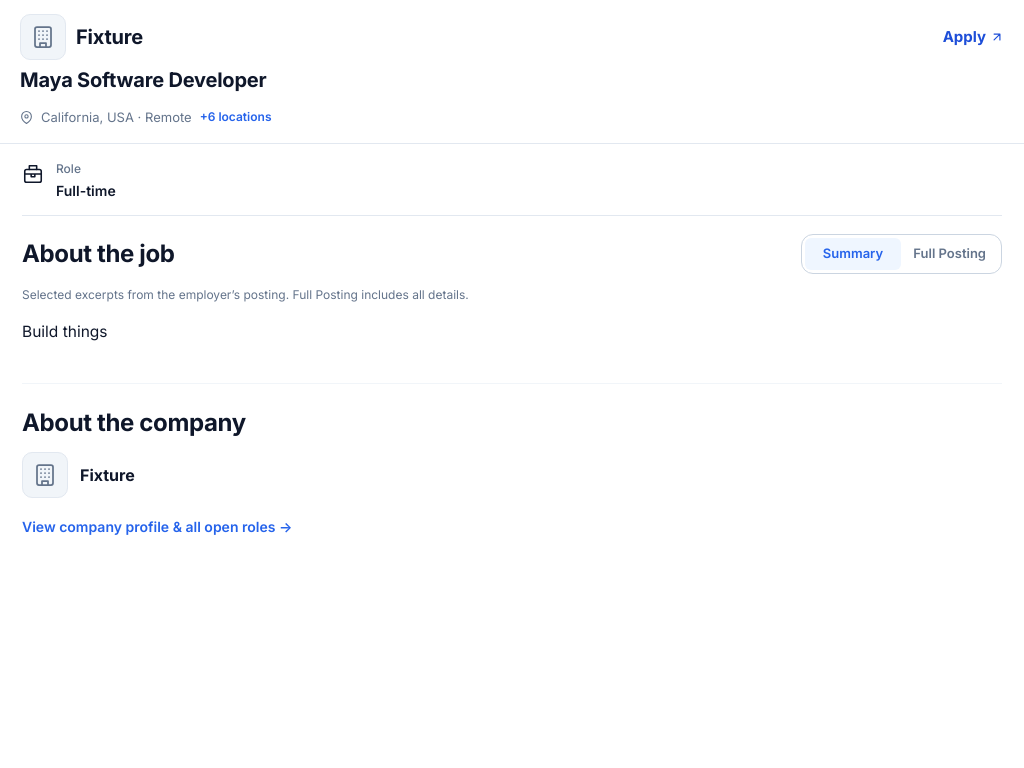
Scenario: location display › collapses seven locations to primary + count, expands to a list, and collapses again
Expected: the link with aria-label "Apply for" is shown, [943,15,1004,59]
Expected: the text "California, USA · Remote" is shown, [41,108,192,126]
Click the button "+6 locations".
click(236, 117)  # box [200,101,271,133]
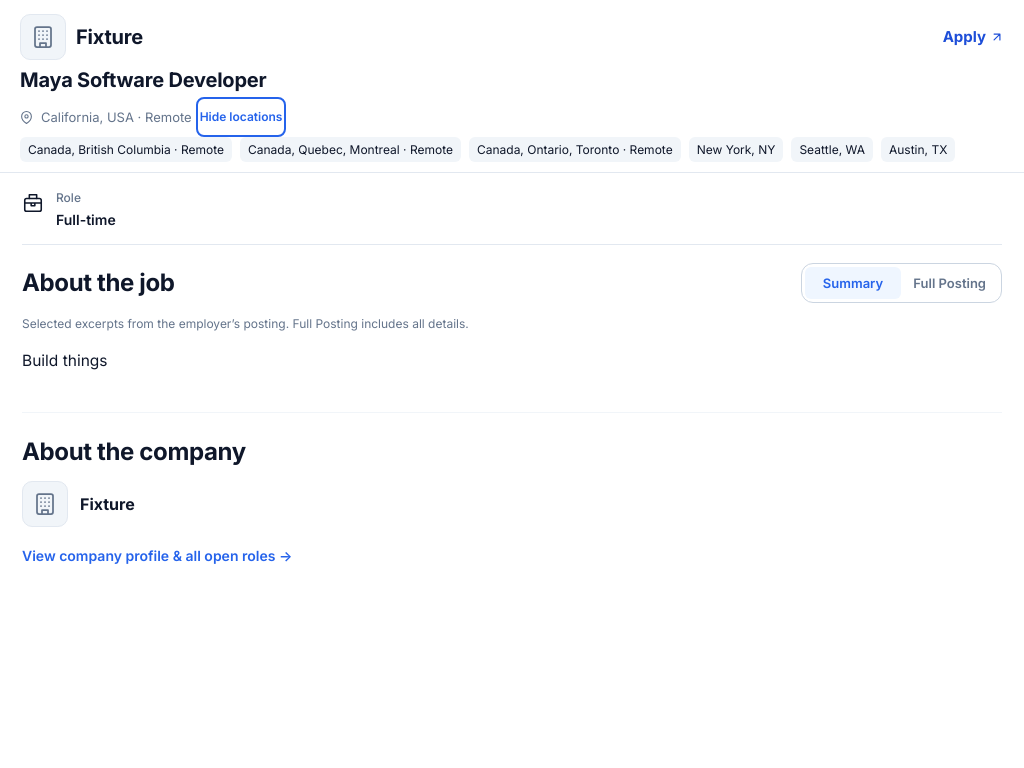
Expected: the text "California, USA · Remote" is shown once, [41,108,192,126]
Now the list items read "Canada, British Columbia · Remote", "Canada, Quebec, Montreal · Remote", "Canada, Ontario, Toronto · Remote", "New York, NY", "Seattle, WA", "Austin, TX", in this order, box [20,137,232,162]; [240,137,461,162]; [469,137,681,162]; [689,137,783,162]; [791,137,873,162]; [881,137,955,162]
Now the button "Hide locations" is expanded
Click the button "Hide locations".
click(241, 117)  # box [200,101,282,133]
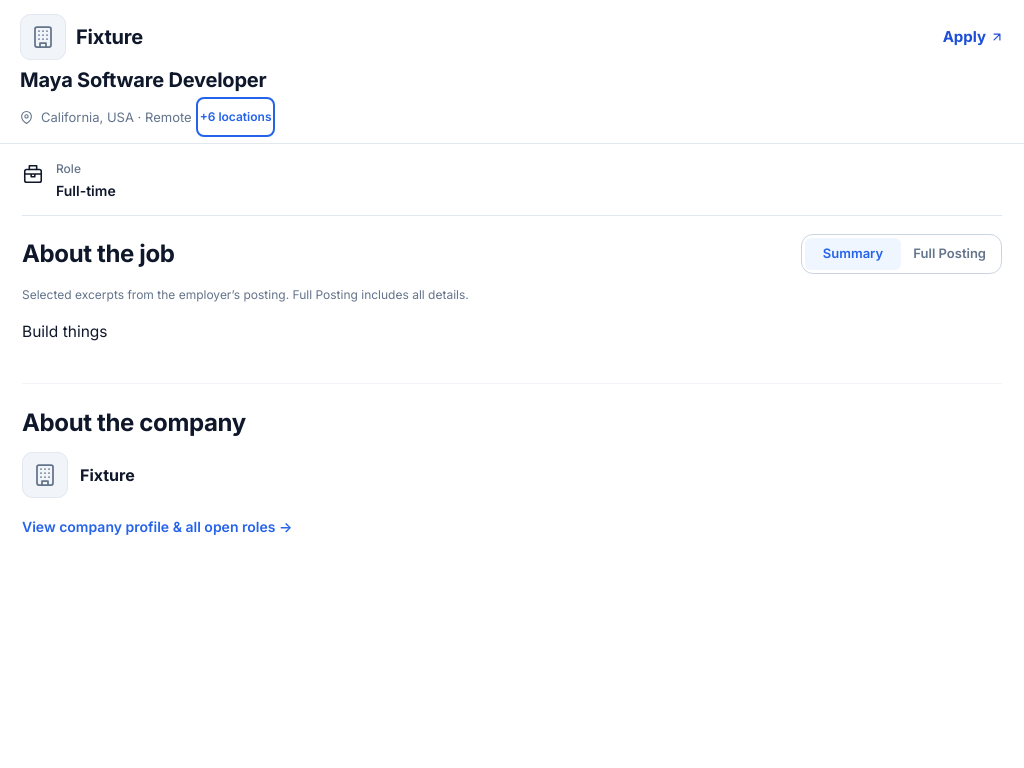
Now the button "+6 locations" is shown, box [200,101,271,133]
